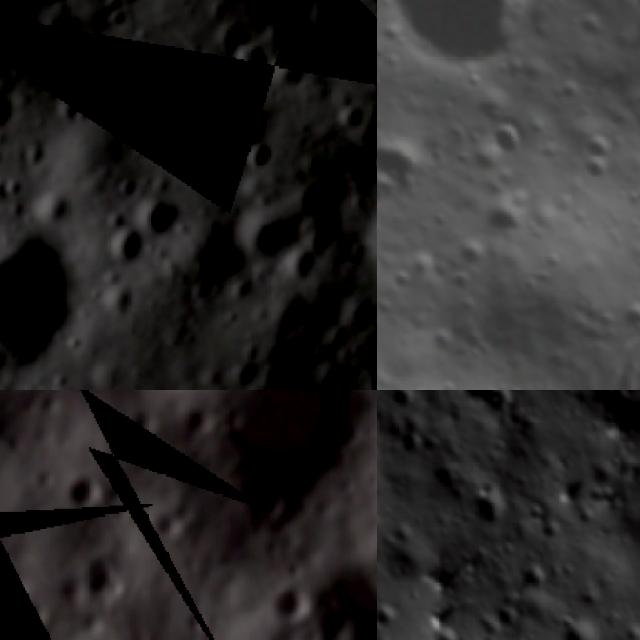crater: (173, 390, 377, 539), (377, 0, 576, 95), (0, 194, 95, 374), (291, 546, 377, 640), (51, 34, 129, 111), (377, 118, 443, 199), (290, 0, 373, 55), (563, 122, 629, 186), (450, 390, 521, 442), (105, 213, 163, 275), (57, 464, 116, 521), (474, 106, 531, 164), (74, 545, 127, 603), (262, 580, 316, 635), (595, 390, 640, 449), (141, 192, 194, 242), (228, 34, 278, 85), (234, 128, 280, 175), (287, 238, 331, 281), (332, 95, 374, 138), (548, 610, 605, 640), (279, 54, 319, 94), (0, 80, 27, 139), (39, 390, 198, 399), (619, 289, 640, 337), (366, 134, 377, 187)
